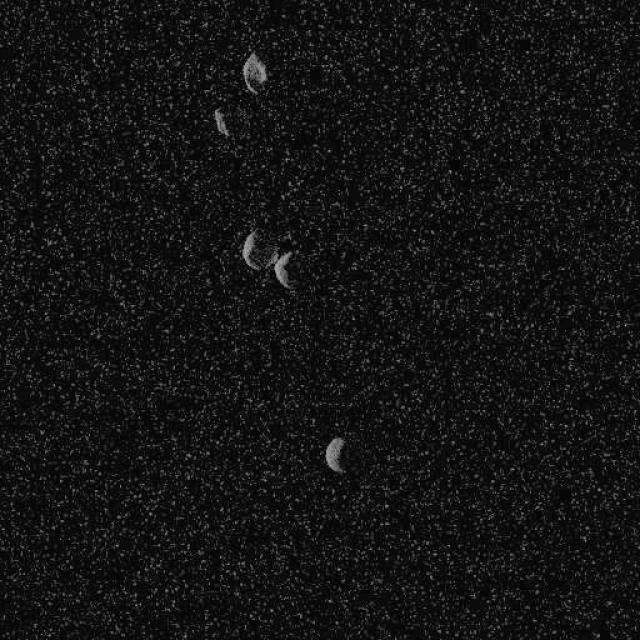D2: (241, 228, 269, 272), (242, 51, 268, 95), (272, 249, 296, 290), (324, 436, 346, 474), (212, 106, 228, 136)
